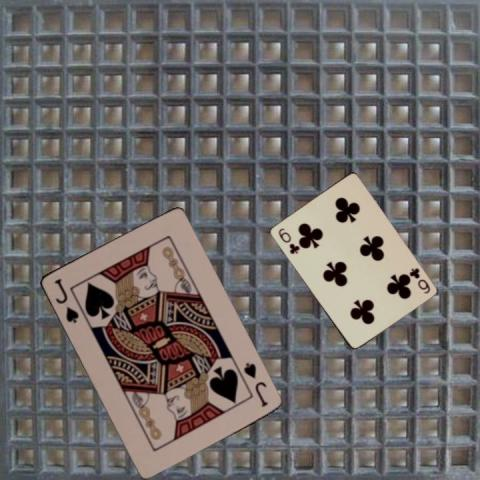6c: (274, 225, 300, 255), (406, 264, 431, 294)
Js: (51, 275, 80, 325), (240, 358, 269, 408)
